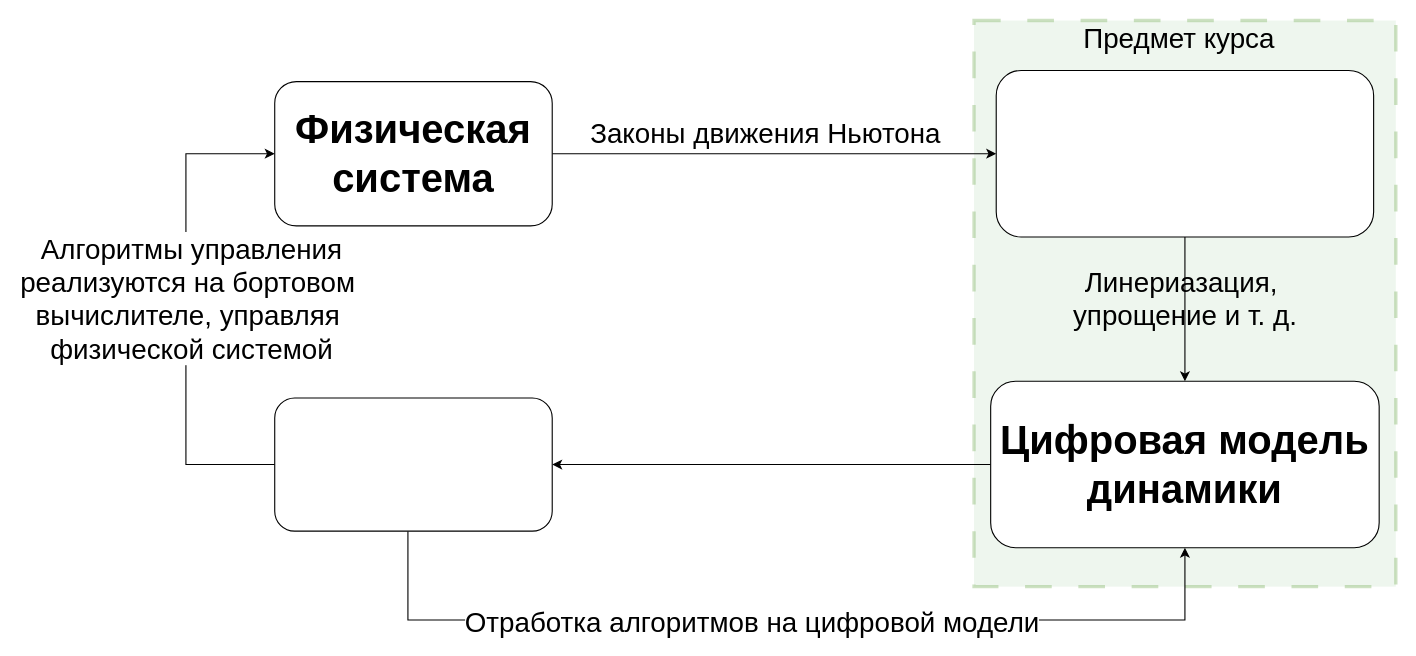
Some shapes in this 1416 by 656 pixel diagram are drawn without their labels. The centre of each missing label's shape, as x and y in pixels:
Математическая модель: the point at 1184,153
Система управления: the point at 413,464
